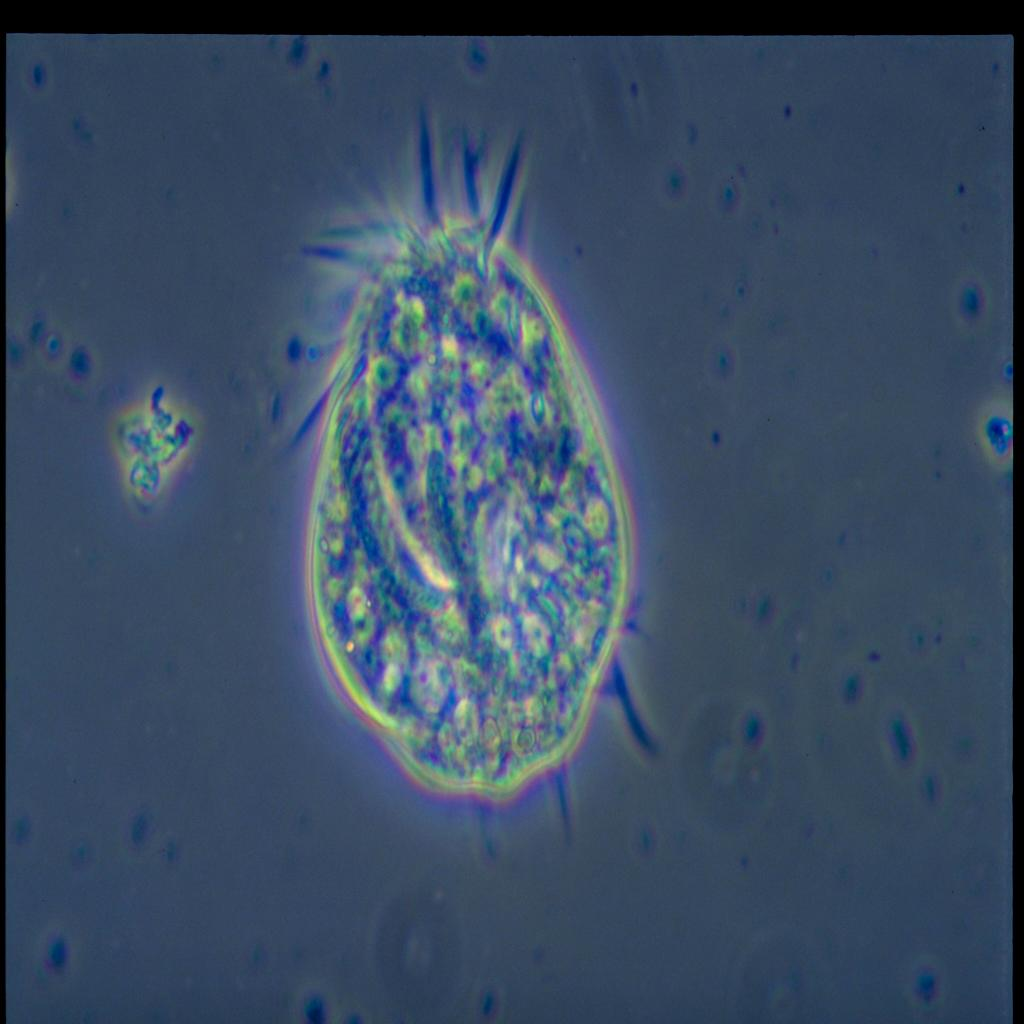Euplotes: (278, 86, 730, 886)
